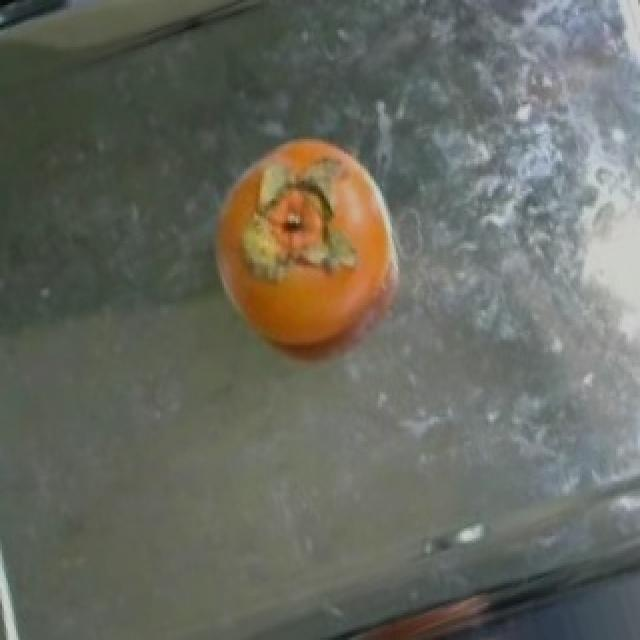Fruit: (192, 116, 428, 384)
